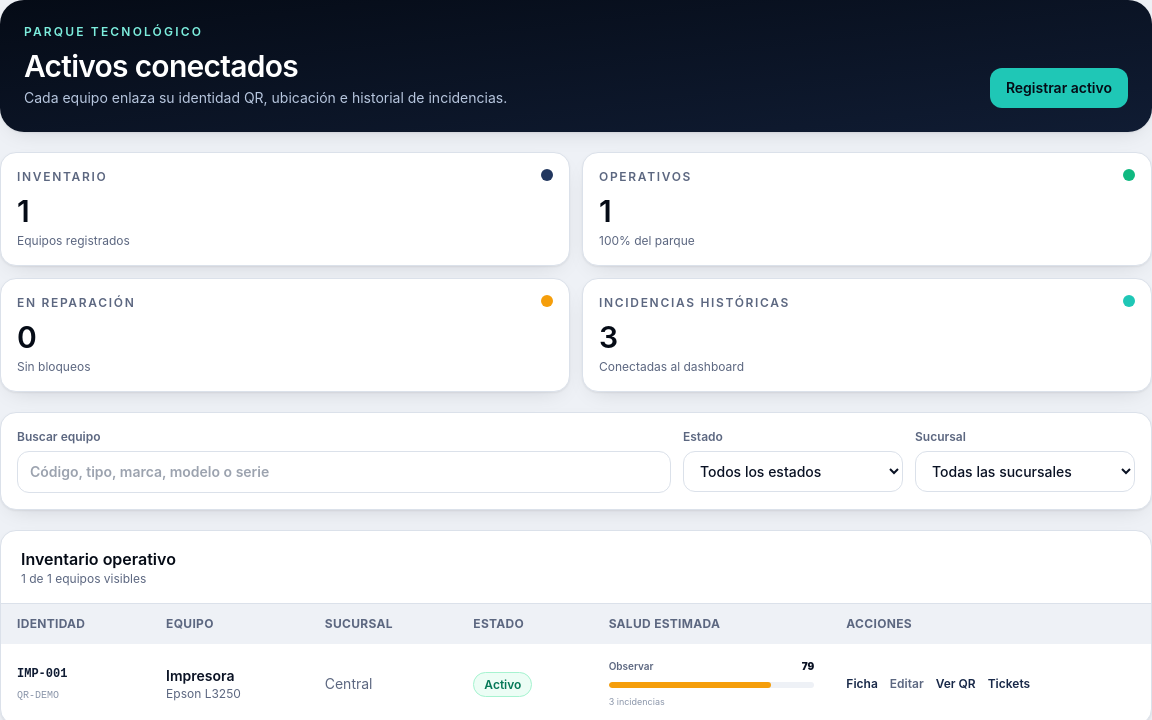
Test: AssetsPage › conecta el activo con sus tickets y permite abrir su edición
This screenshot has width=1152, height=720.
Expected: the heading "Activos conectados" is shown, [24,48,298,84]
Expected: the text "Observar" is shown, [609,656,654,676]
Click the button "Editar" at (907, 684), box [890,676,924,692]
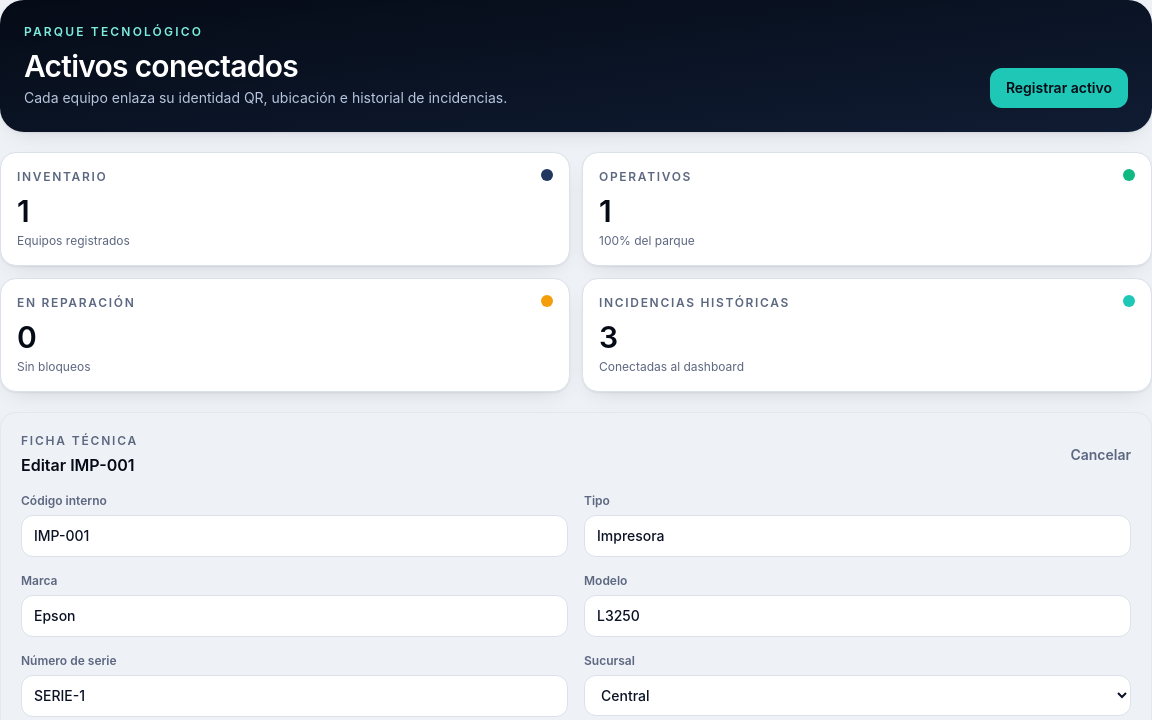
Result: the heading "Editar IMP-001" is shown at [21,453,138,477]
